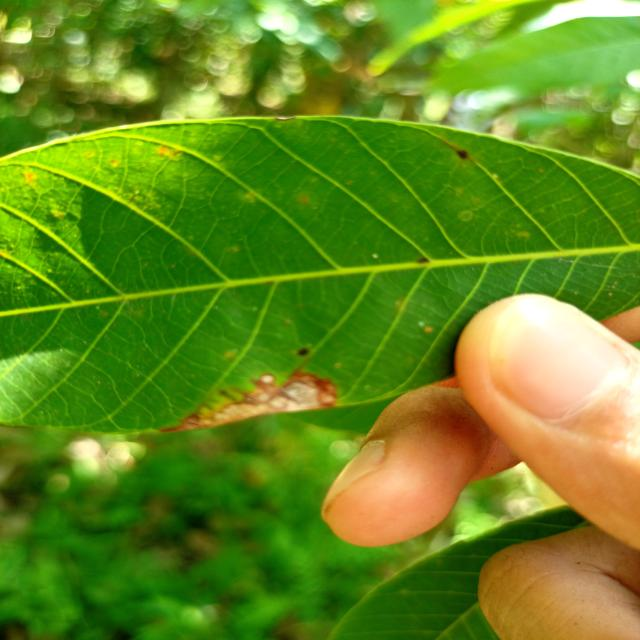Colletotrichum: (456, 149, 468, 160), (298, 348, 309, 356)
Leaf-Blight: (164, 368, 337, 433)
